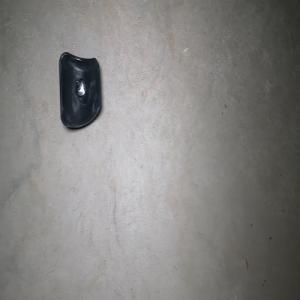LuggagePart: (58, 50, 102, 130)
